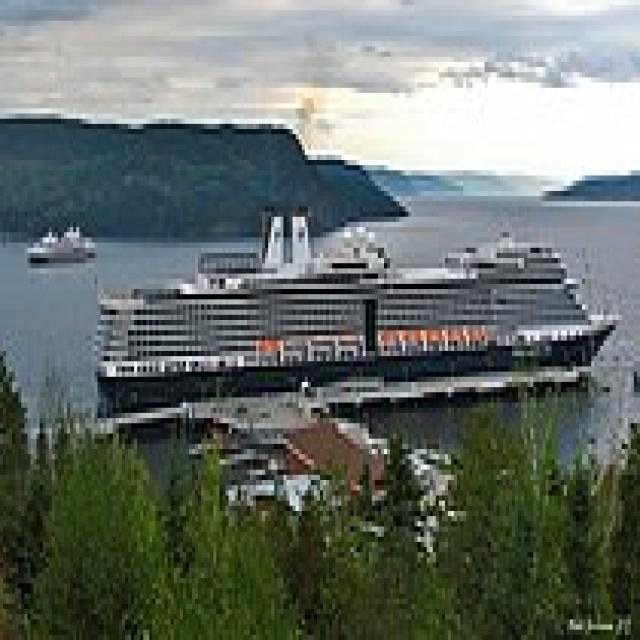Ship: (80, 192, 629, 404)
